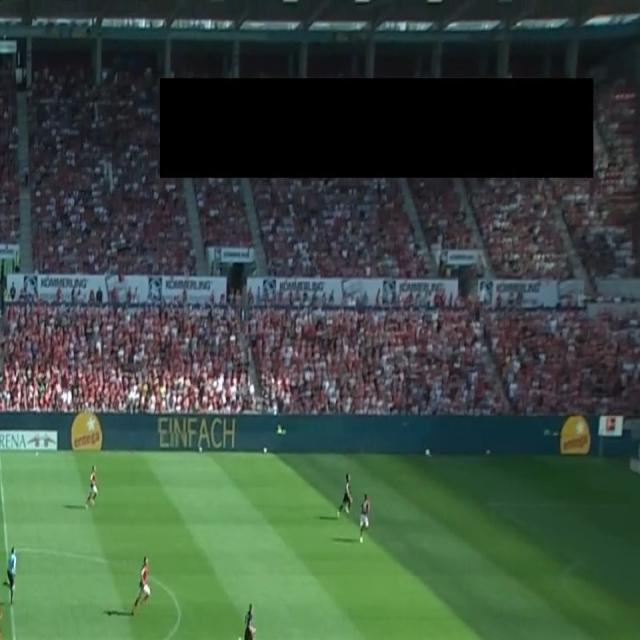ball: (424, 447, 430, 457)
